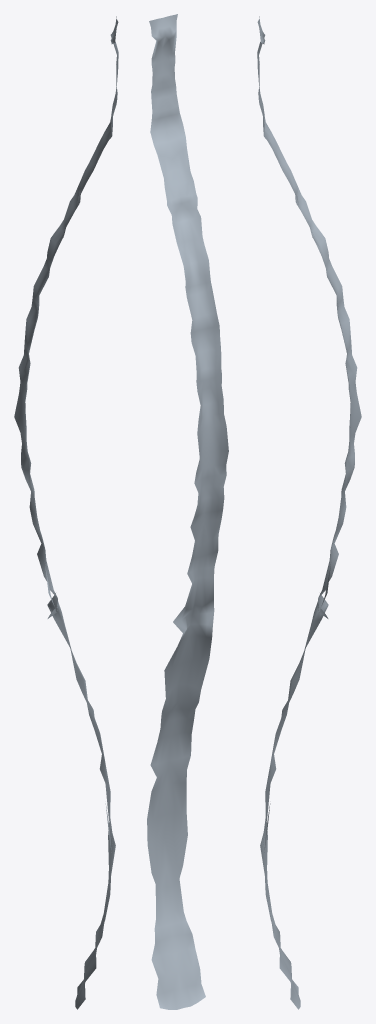
File: posterior-longitudinal-ligament.glb
The picture shows the model from 3 angles, left to right: view 1: azimuth 90°, elevation 25°; view 2: azimuth 210°, elevation 25°; view 3: azimuth 270°, elevation 25°; orthographic projection.
Parts seen in each view (by area): view 1: Posterior longitudinal ligament; view 2: Posterior longitudinal ligament; view 3: Posterior longitudinal ligament.
Part boxes in pixels (x1,y1,x2,y2): Posterior longitudinal ligament: (14, 16, 118, 1009); Posterior longitudinal ligament: (147, 14, 228, 1009); Posterior longitudinal ligament: (257, 16, 361, 1009).
Bounding box in the file's own units: 0.0281 × 0.5699 × 0.055.
